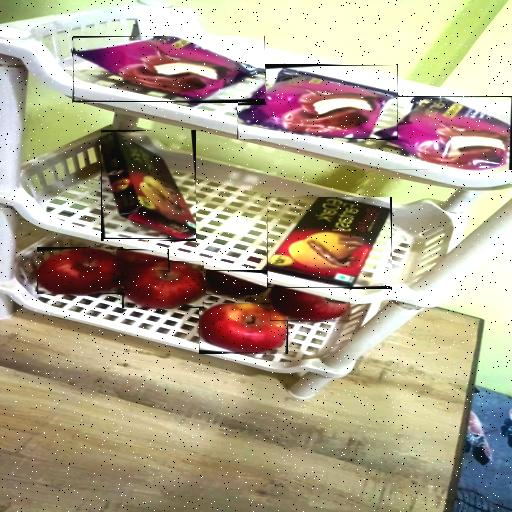Apple: (199, 303, 288, 353), (37, 247, 123, 294), (123, 262, 204, 308), (270, 287, 350, 321), (207, 271, 267, 295), (118, 251, 169, 271)
Choco Fills: (267, 197, 390, 288), (101, 132, 196, 239)
Choco Pie: (73, 37, 265, 102), (238, 67, 397, 138), (376, 97, 512, 170)
